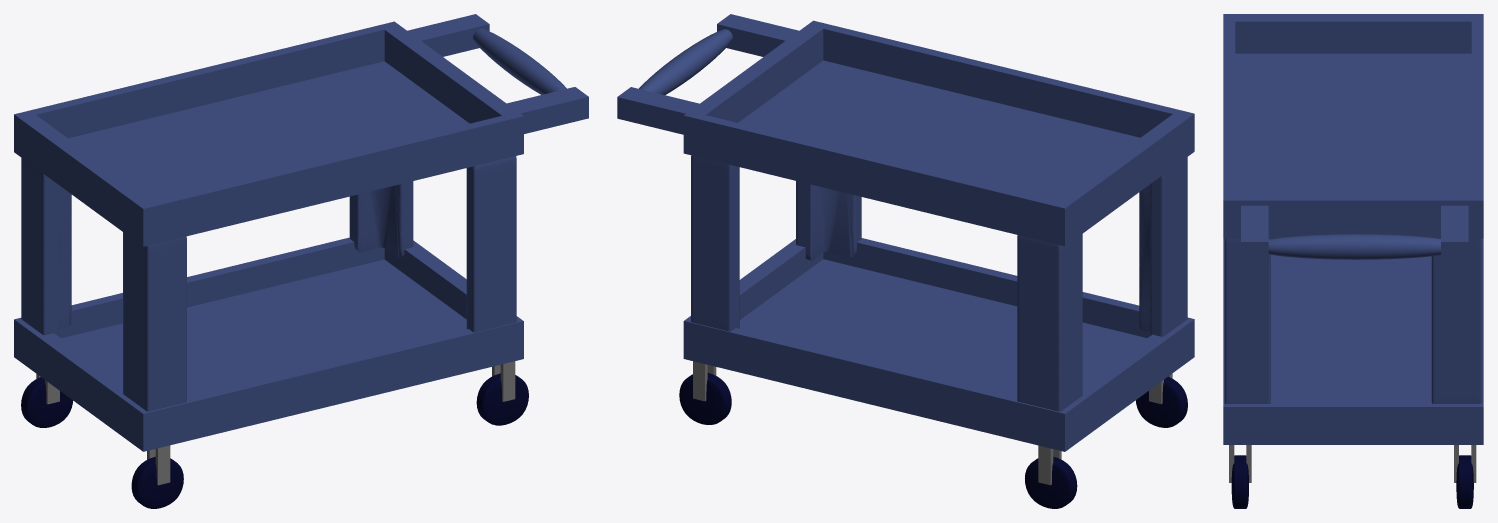
The model's file is CartModel.fbx.
3 renders of one model, left to right at view 1: azimuth 30°, elevation 25°; view 2: azimuth 150°, elevation 25°; view 3: azimuth 270°, elevation 25°, orthographic.
Parts seen in each view (by area): view 1: pCube1, pCube5, pCube4, pCube16, pCube17, pCube18, pCube20, pCube24, pCube25, pCube10, pCube9, pCube14 (+2 smaller); view 2: pCube1, pCube5, pCube17, pCube18, pCube4, pCube16, pCube25, pCube24, pCube20, pCube12, pCube14, pCube9; view 3: pCube1, pCube5, pCube18, pCube16, pCube24, pCube20, pCube25, pCube12, pCube10, pCube11, pCube13.
Boxes of the visible parts, <box> form: pCube1: <box>14,21,523,246</box>; pCube5: <box>14,237,523,451</box>; pCube4: <box>123,232,186,411</box>; pCube16: <box>466,156,516,332</box>; pCube17: <box>21,158,71,336</box>; pCube18: <box>349,181,413,257</box>; pCube20: <box>507,87,588,133</box>; pCube24: <box>473,28,566,94</box>; pCube25: <box>407,14,489,56</box>; pCube10: <box>476,373,528,425</box>; pCube9: <box>131,456,183,508</box>; pCube14: <box>21,377,72,427</box>; pCube1: <box>683,20,1194,246</box>; pCube5: <box>683,238,1194,451</box>; pCube17: <box>1017,234,1082,411</box>; pCube18: <box>691,155,739,331</box>; pCube4: <box>1139,157,1187,336</box>; pCube16: <box>796,181,861,260</box>; pCube25: <box>617,87,699,134</box>; pCube24: <box>639,29,732,94</box>; pCube20: <box>717,14,798,56</box>; pCube12: <box>679,373,731,424</box>; pCube14: <box>1025,456,1077,508</box>; pCube9: <box>1135,377,1187,427</box>; pCube1: <box>1223,14,1483,238</box>; pCube5: <box>1223,238,1483,444</box>; pCube18: <box>1431,238,1482,403</box>; pCube16: <box>1224,238,1270,403</box>; pCube24: <box>1268,234,1440,259</box>; pCube20: <box>1241,205,1268,263</box>; pCube25: <box>1441,205,1468,263</box>; pCube12: <box>1456,455,1473,508</box>; pCube10: <box>1231,455,1248,508</box>; pCube11: <box>1229,445,1251,482</box>; pCube13: <box>1454,445,1476,482</box>.
Bounding box in the file's own units: 4.3 × 2.79 × 2.11.
